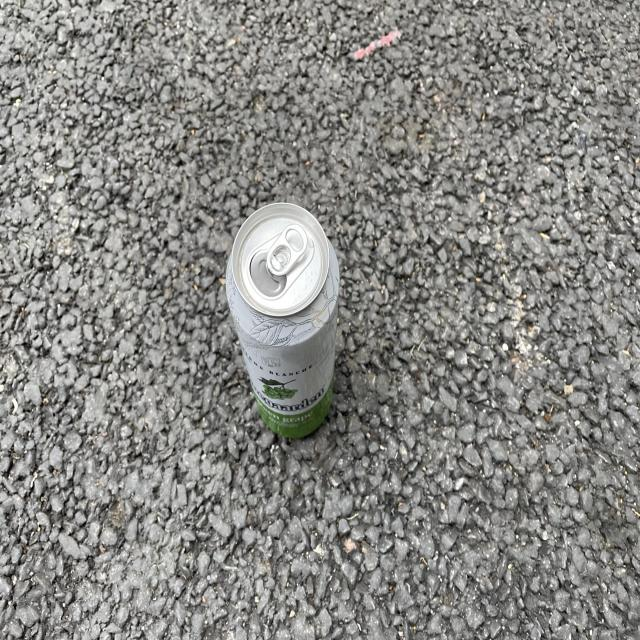can: (226, 203, 339, 438)
